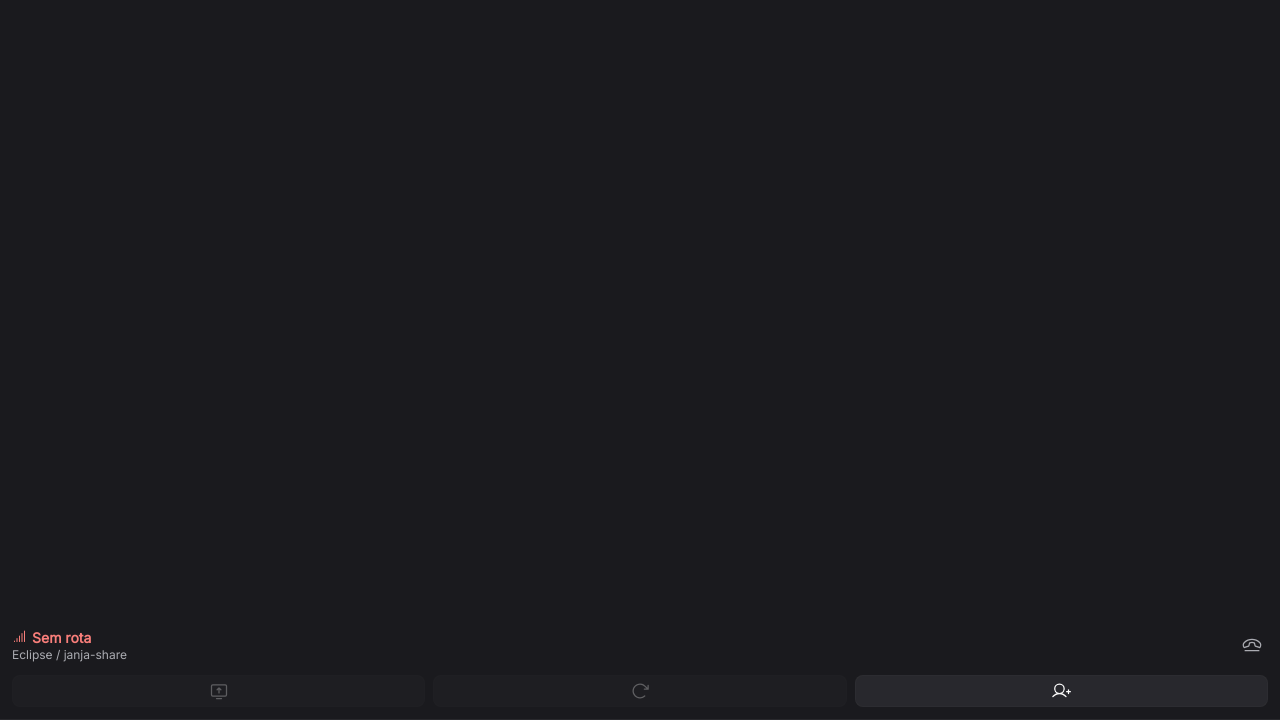
Test: o painel de voz conectada › preso sem conectar, o clique explica que a rede parece bloquear a mídia
This screenshot has width=1280, height=720.
(page scrolled)
Click the button "Sem rota".
click(52, 637)  # box [12,627,91,647]
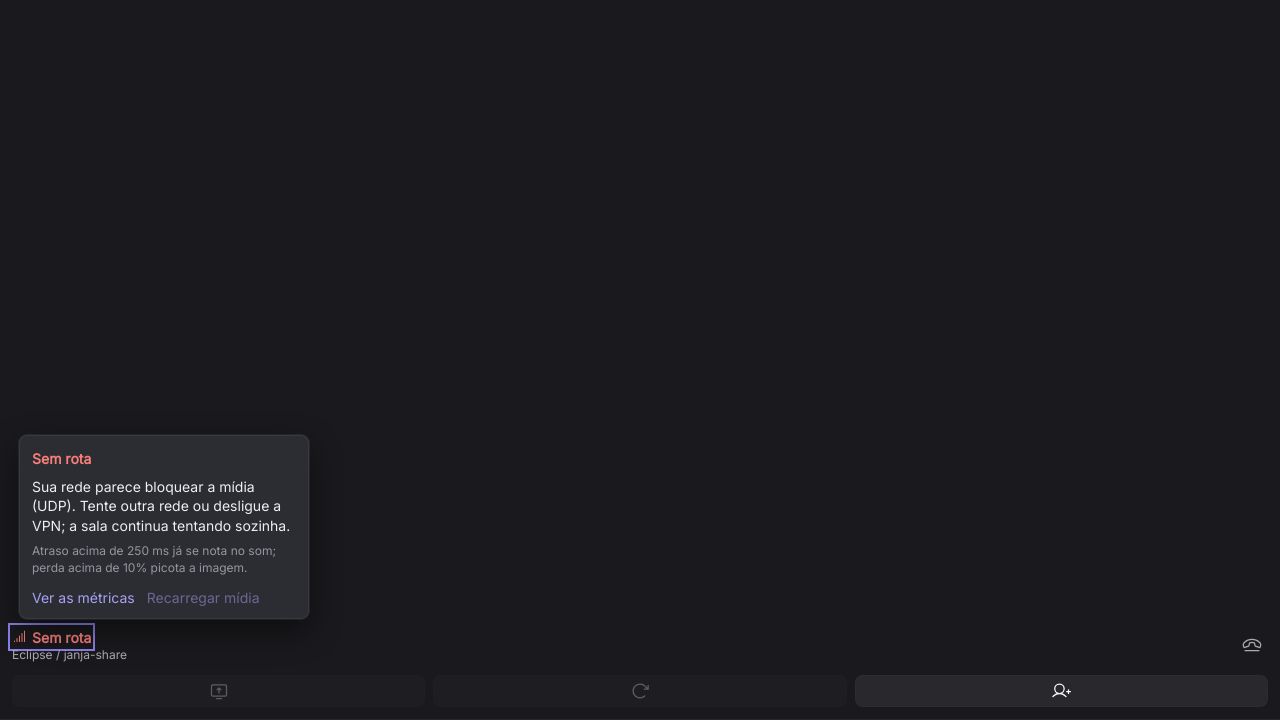
Check: the button named "Compartilhar tela" is disabled, box [12,675,425,707]
Check: the element named "Estado da conexão" shows "Sua rede parece bloquear a mídia", box [32,478,290,534]
Check: the button "Recarregar mídia" is disabled, box [147,589,260,606]
